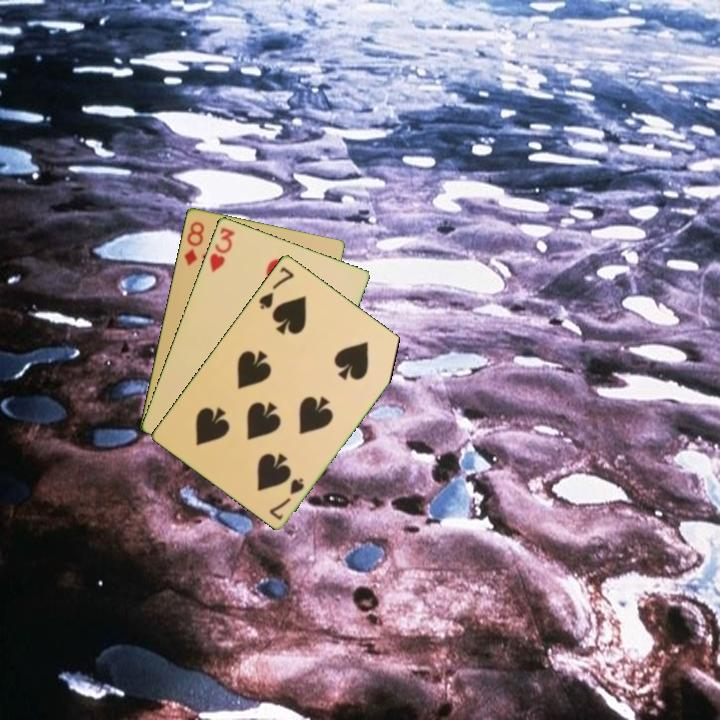3h: (206, 223, 238, 276)
7s: (255, 263, 297, 312), (266, 474, 307, 523)
8d: (180, 217, 207, 268)
